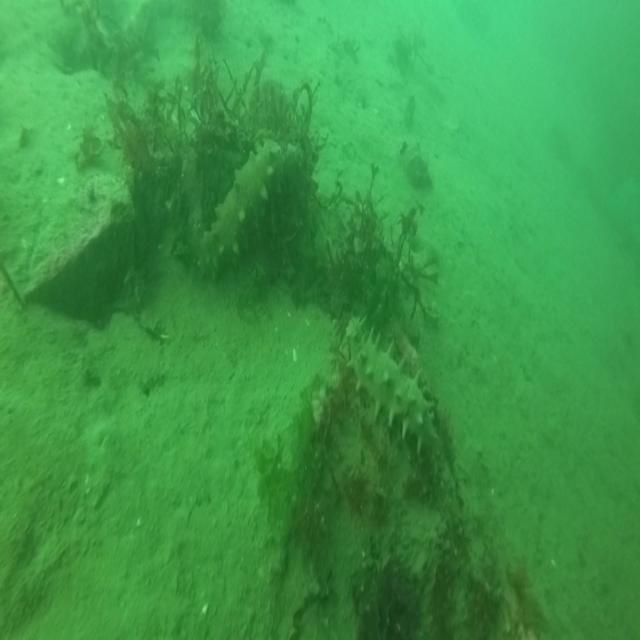holothurian: (191, 138, 294, 274), (341, 320, 438, 454)
